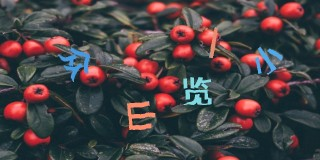一: (208, 27, 218, 57)
众: (58, 47, 90, 81)
小: (255, 43, 284, 76)
山: (126, 99, 157, 132)
览: (182, 75, 214, 107)
